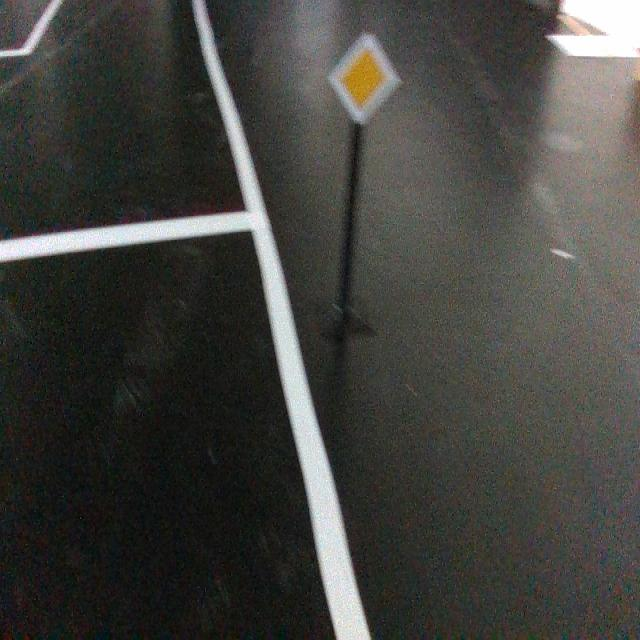priority-sign: (327, 32, 403, 125)
